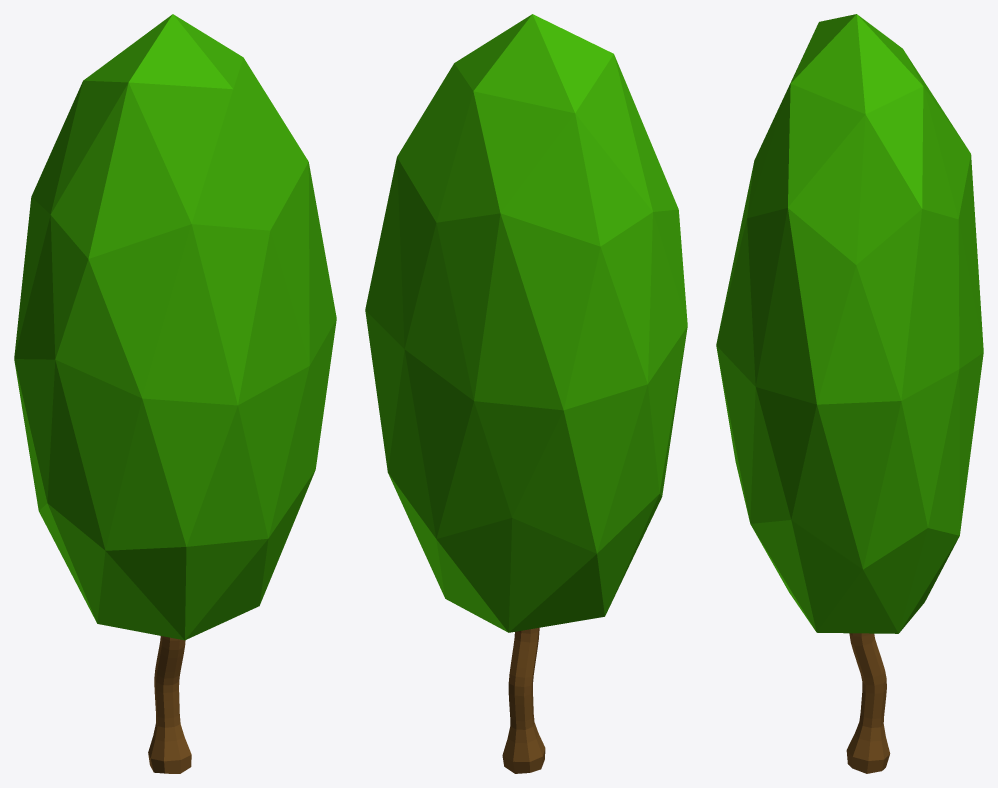
The model's file is tree3.fbx.
3 renders of one model, left to right at view 1: azimuth 30°, elevation 25°; view 2: azimuth 150°, elevation 25°; view 3: azimuth 270°, elevation 25°, orthographic.
Visible parts, largest first — view 1: Icosphere.012, Cube; view 2: Icosphere.012, Cube; view 3: Icosphere.012, Cube.
Boxes of the visible parts, bbox=[...] form: Icosphere.012: bbox=[14, 14, 336, 640]; Cube: bbox=[148, 636, 191, 773]; Icosphere.012: bbox=[365, 14, 687, 632]; Cube: bbox=[502, 627, 545, 773]; Icosphere.012: bbox=[716, 14, 983, 633]; Cube: bbox=[846, 633, 890, 773].
Bounding box in the file's own units: 600 × 1537 × 493.
